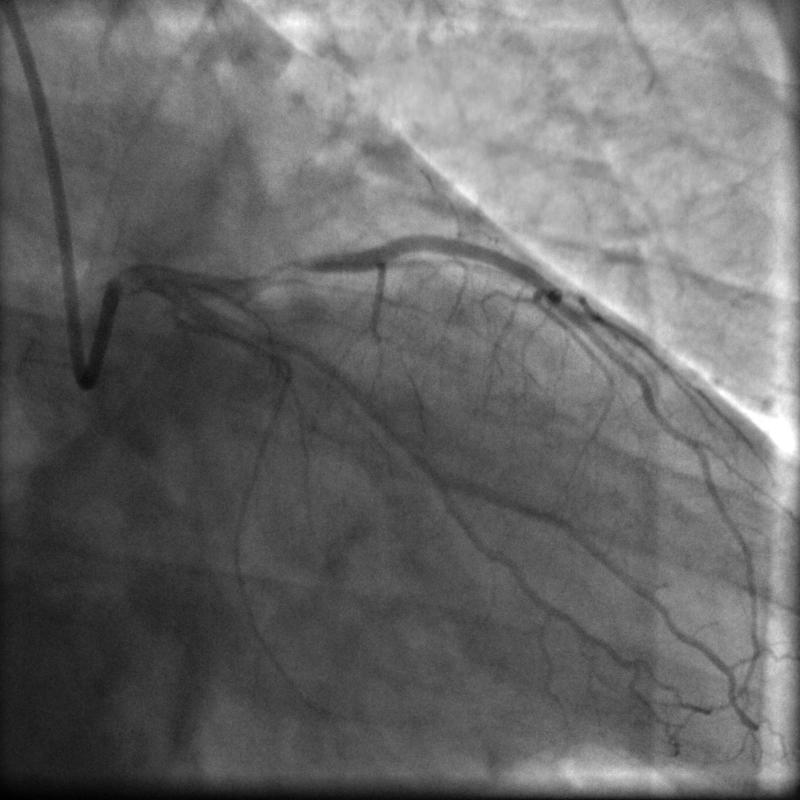Stenosis: (239, 254, 323, 288)
